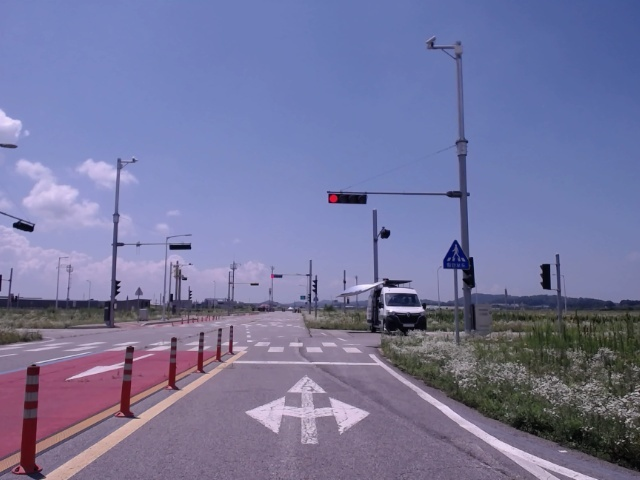red_4: (327, 193, 368, 205)
